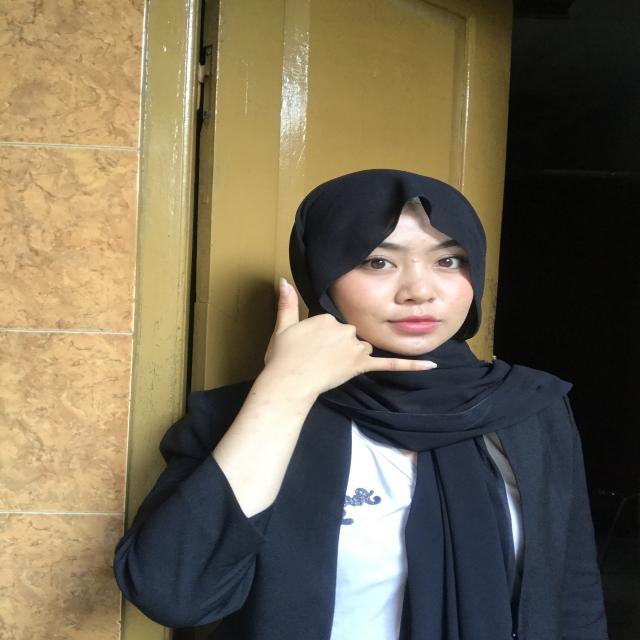telpon: (243, 270, 477, 402)
